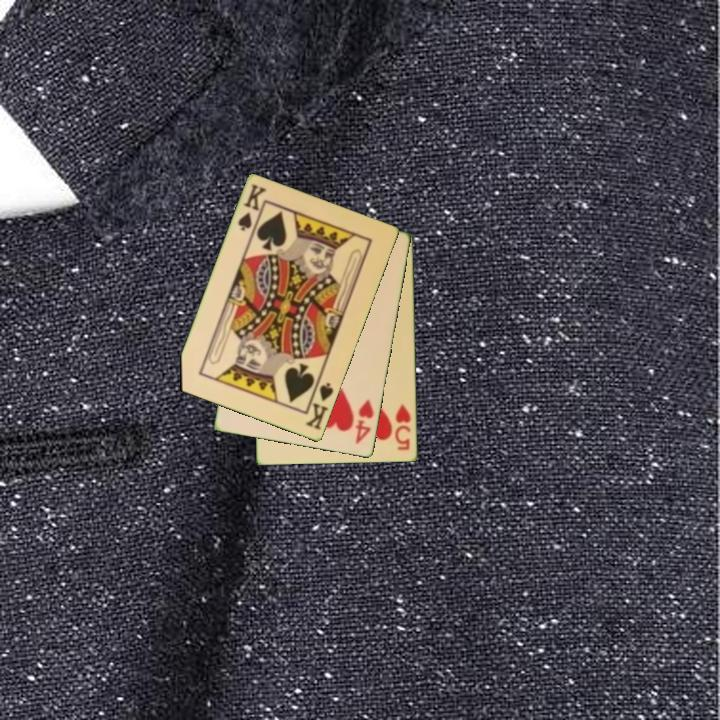4h: (352, 396, 377, 447)
5h: (392, 401, 414, 453)
Ks: (234, 181, 270, 234), (302, 379, 337, 433)
